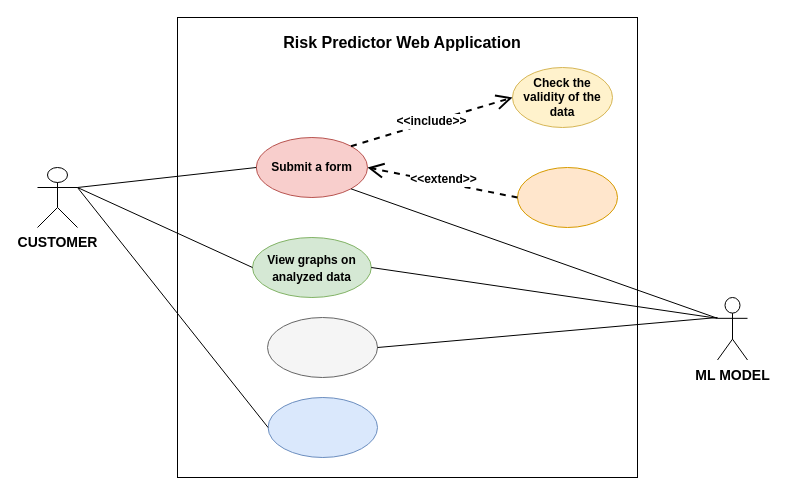
Some shapes in this 786 by 495 pixel diagram are drawn without their labels. The shapes that lost their labels are listed below. From the top down, each one's centre as x and y in pixels, then its label:
point (567, 197): Display error messages
point (322, 347): Do predictions
point (322, 427): View predictions
